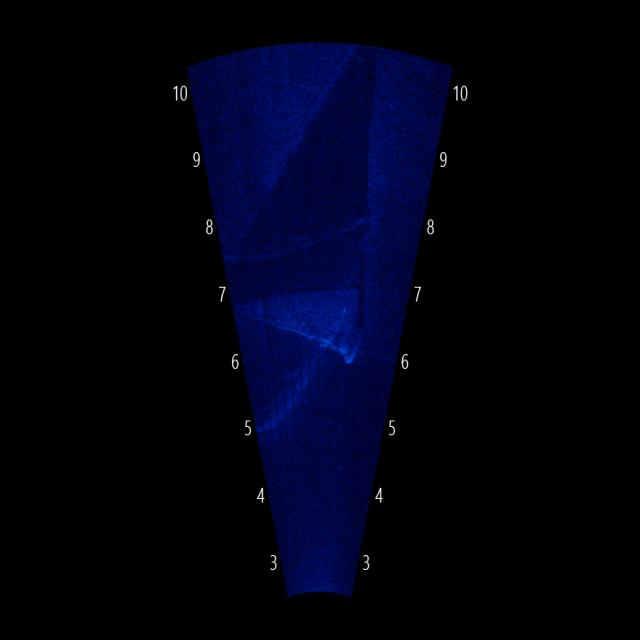triangle: (234, 258, 371, 374)
